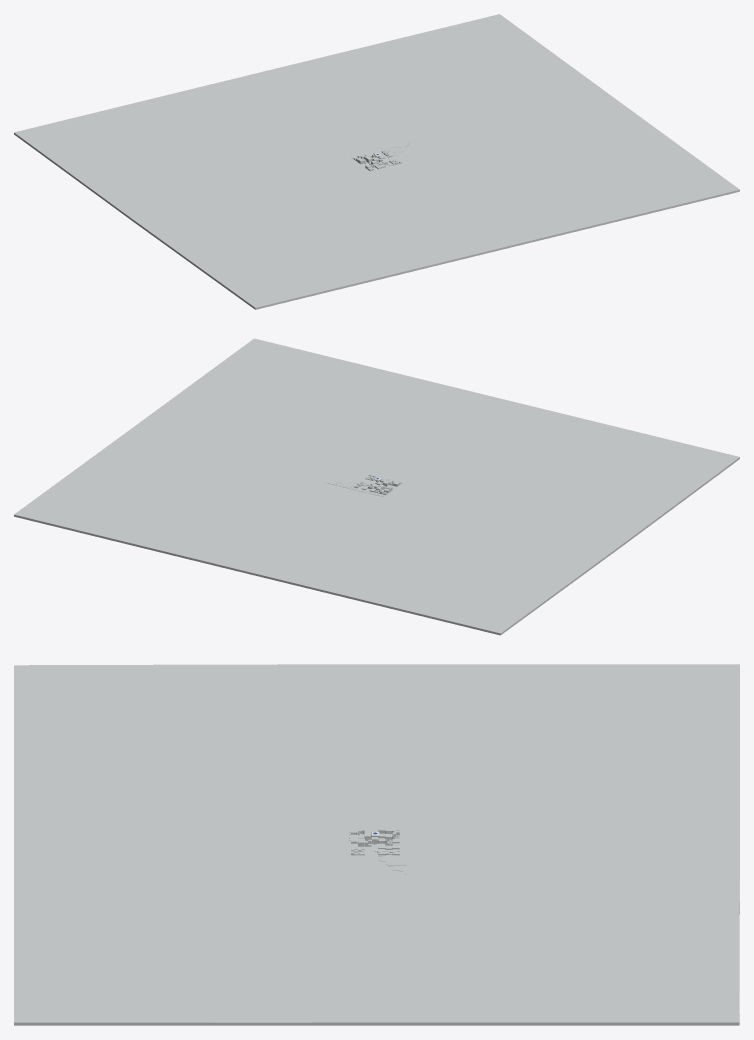
Rendered from BG_boxes_v4.gltf.
3 renders of one model, top to bottom at view 1: azimuth 30°, elevation 25°; view 2: azimuth 150°, elevation 25°; view 3: azimuth 270°, elevation 25°, orthographic. The views are drawn at different scales.
Parts seen in each view (by area): view 1: Static; view 2: Static; view 3: Static.
Part boxes in pixels (x1=…): Static: x1=14, y1=14, x2=739, y2=309; Static: x1=14, y1=338, x2=739, y2=635; Static: x1=14, y1=664, x2=739, y2=1025.
Bounding box in the file's own units: 243 × 8.65 × 208.
Materials: 2 (1 with a texture image).
